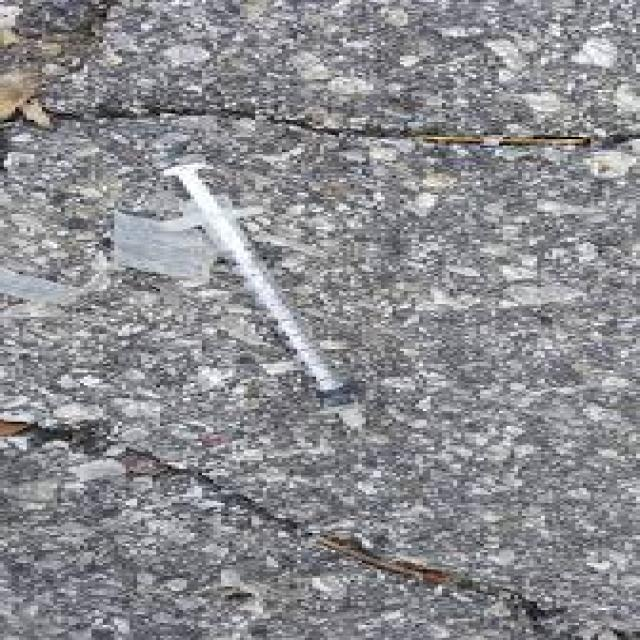Needle: (145, 151, 391, 445)
